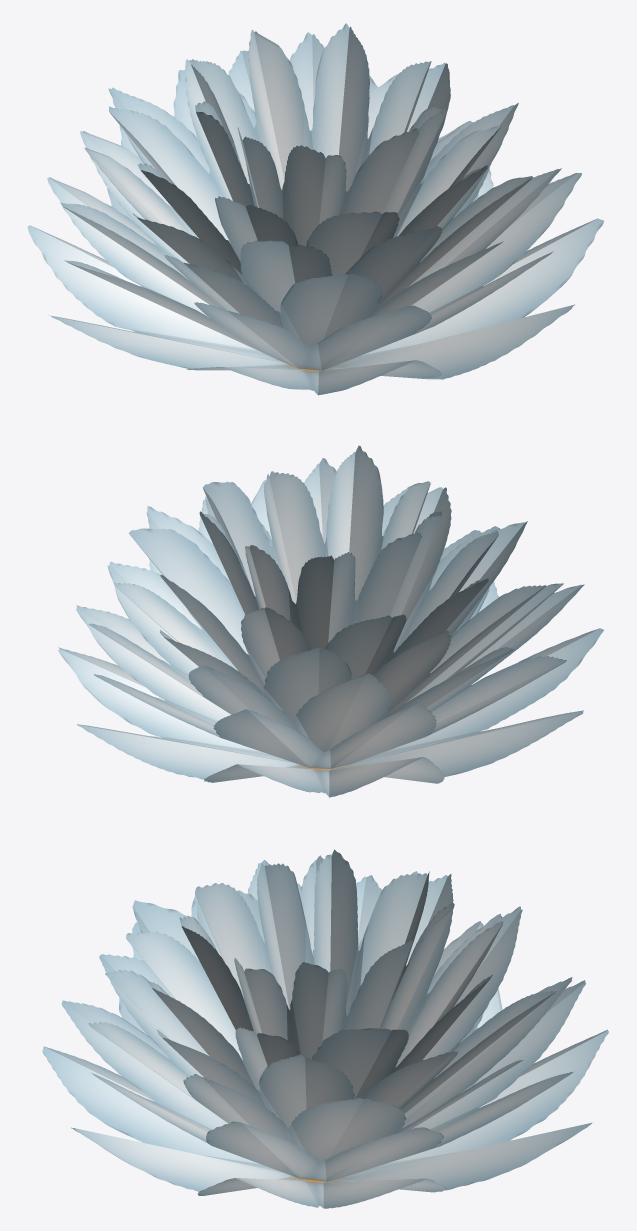
The model's file is WaterPlant04.glb.
3 views of the same model, one above another, from view 1: azimuth 30°, elevation 25°; view 2: azimuth 150°, elevation 25°; view 3: azimuth 270°, elevation 25° (orthographic). The views are drawn at different scales.
Visible parts, largest first — view 1: PlantAqua04; view 2: PlantAqua04; view 3: PlantAqua04.
Part boxes in pixels (x1,y1,x2,y2): PlantAqua04: (27,23,603,395); PlantAqua04: (58,445,603,797); PlantAqua04: (42,849,608,1208).
Bounding box in the file's own units: 0.6245 × 0.3098 × 0.6042.
1 material, 1 textured.
